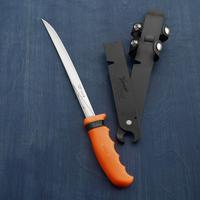knife: (36, 12, 127, 184)
